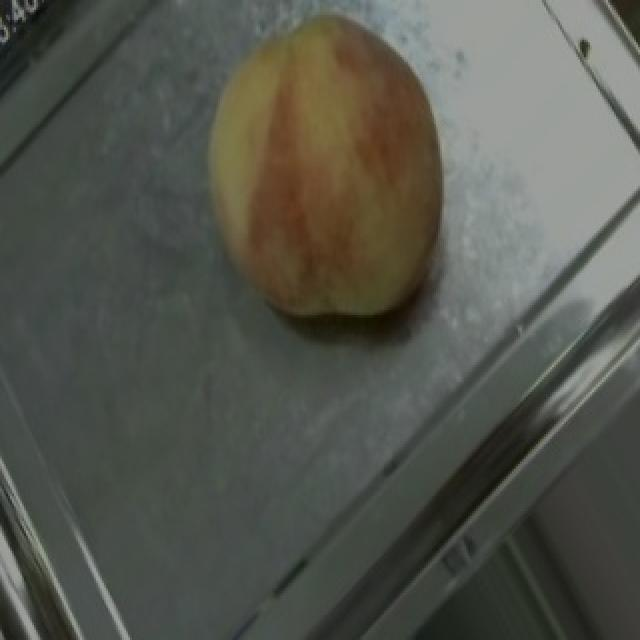Fruit: (156, 0, 494, 370)
